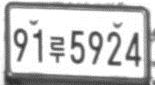1: (32, 28, 44, 63)
2: (106, 30, 122, 67)
4: (124, 31, 141, 67)
5: (70, 29, 85, 64)
9: (87, 30, 104, 65), (13, 27, 29, 62)
루: (48, 35, 65, 64)
